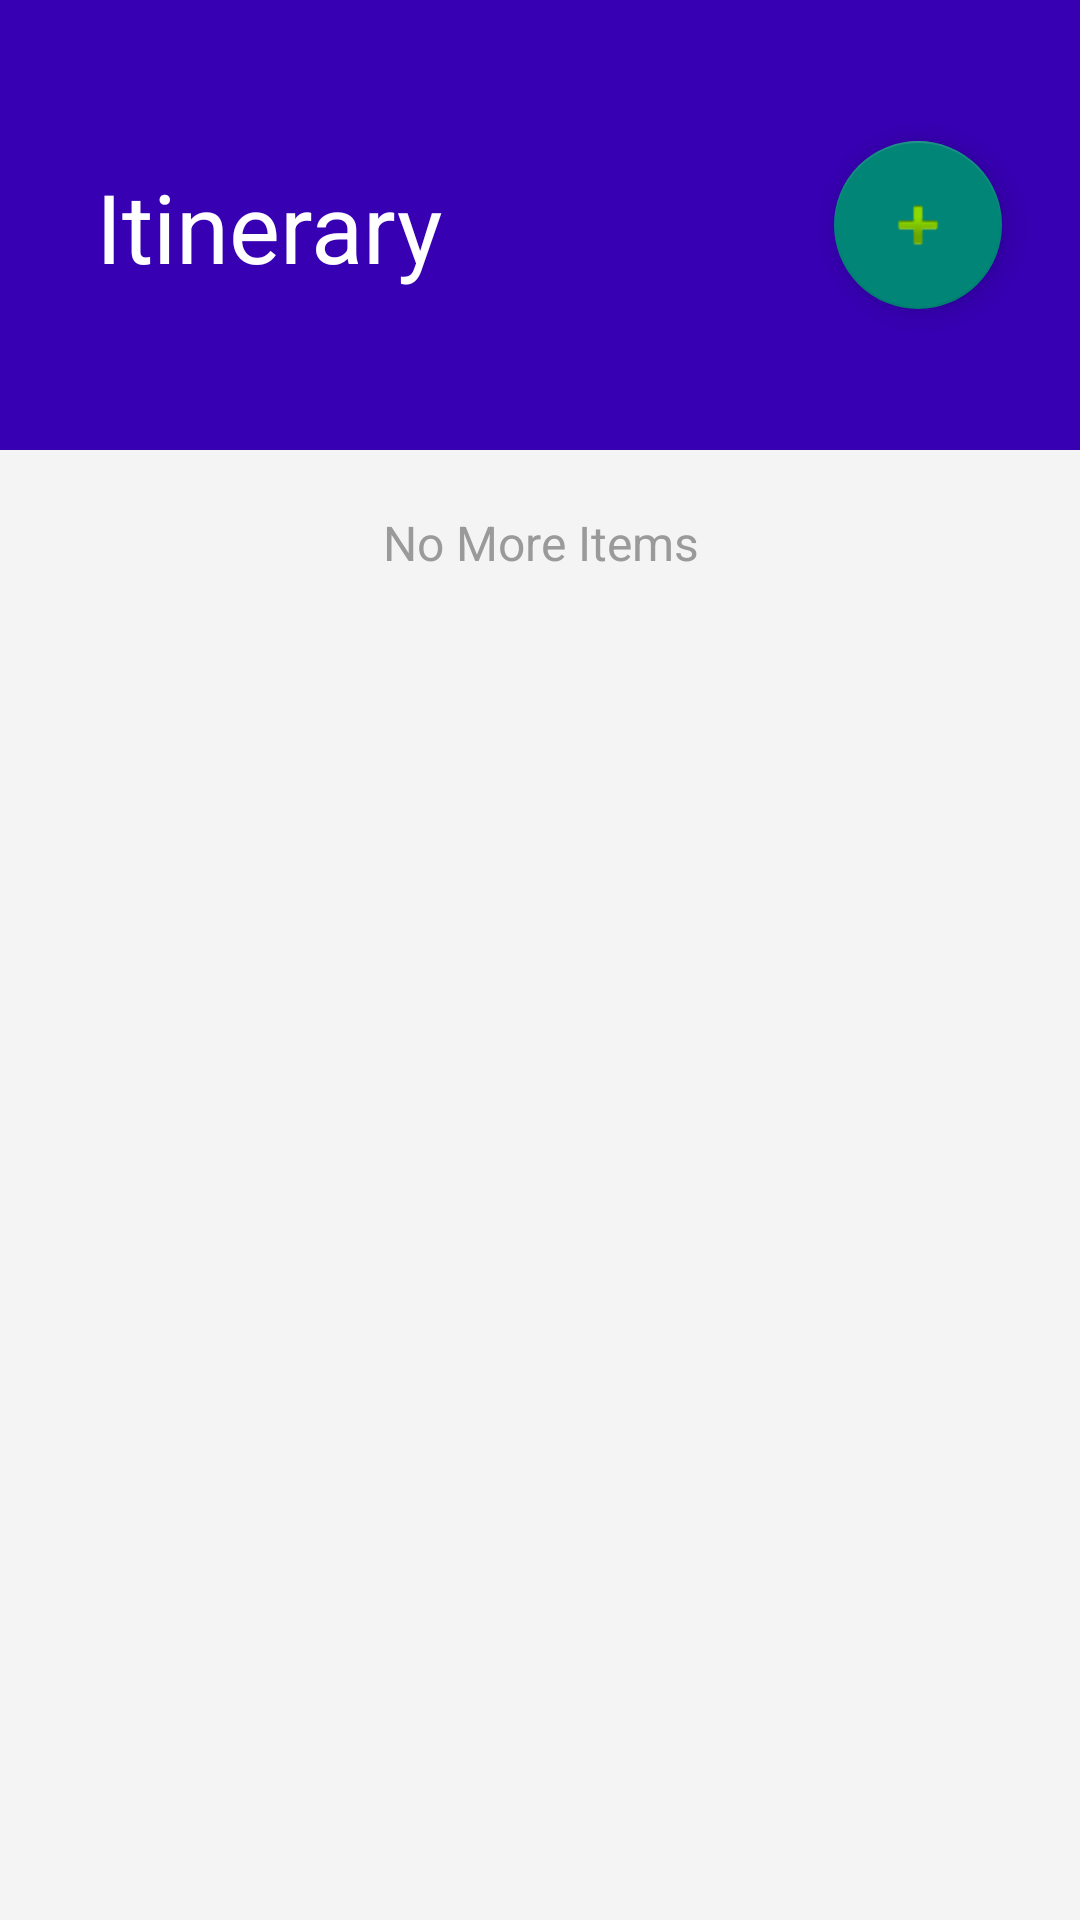

Named icons in this screenshot (1080x1920) and their bounding boxes, (x1, y1, x2, y2):
add: (834, 141, 1002, 309)
